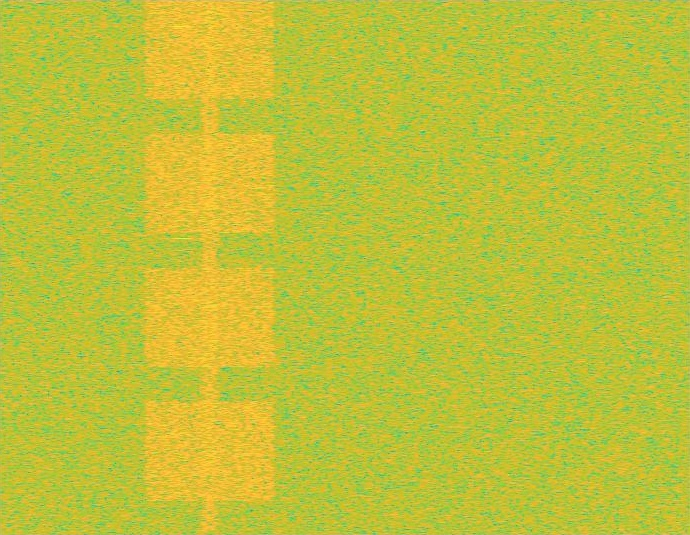5G: (141, 0, 279, 534)
DSSS: (201, 0, 219, 534)
Radar: (176, 0, 190, 534)
